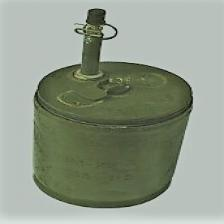OZM-72: (27, 40, 190, 211)
